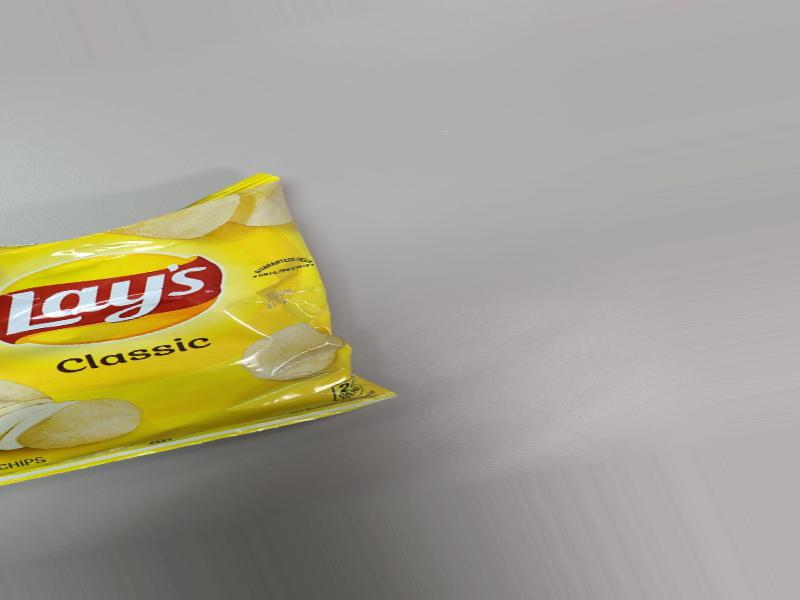lays: (0, 180, 373, 495)
